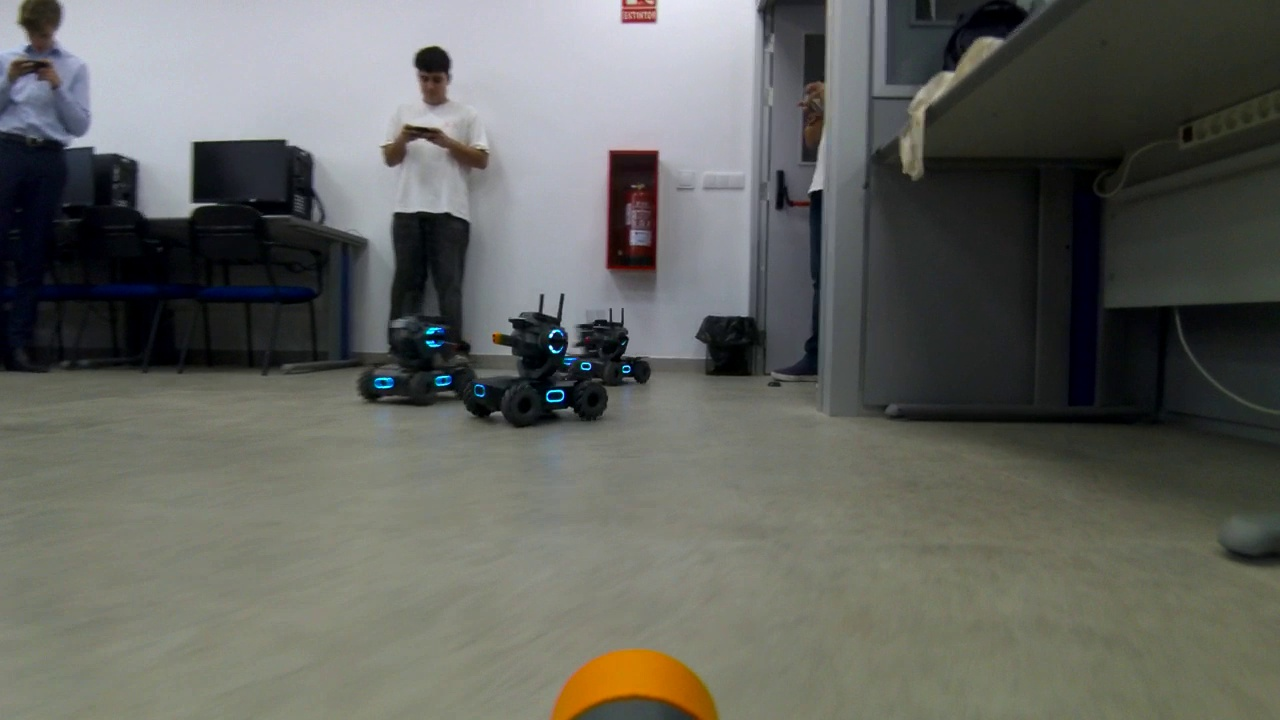robot: (470, 293, 608, 426), (352, 294, 475, 402), (577, 309, 640, 388)
